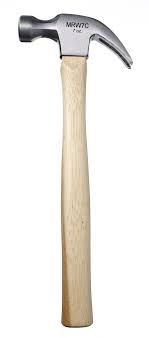hammer: (16, 13, 133, 328)
